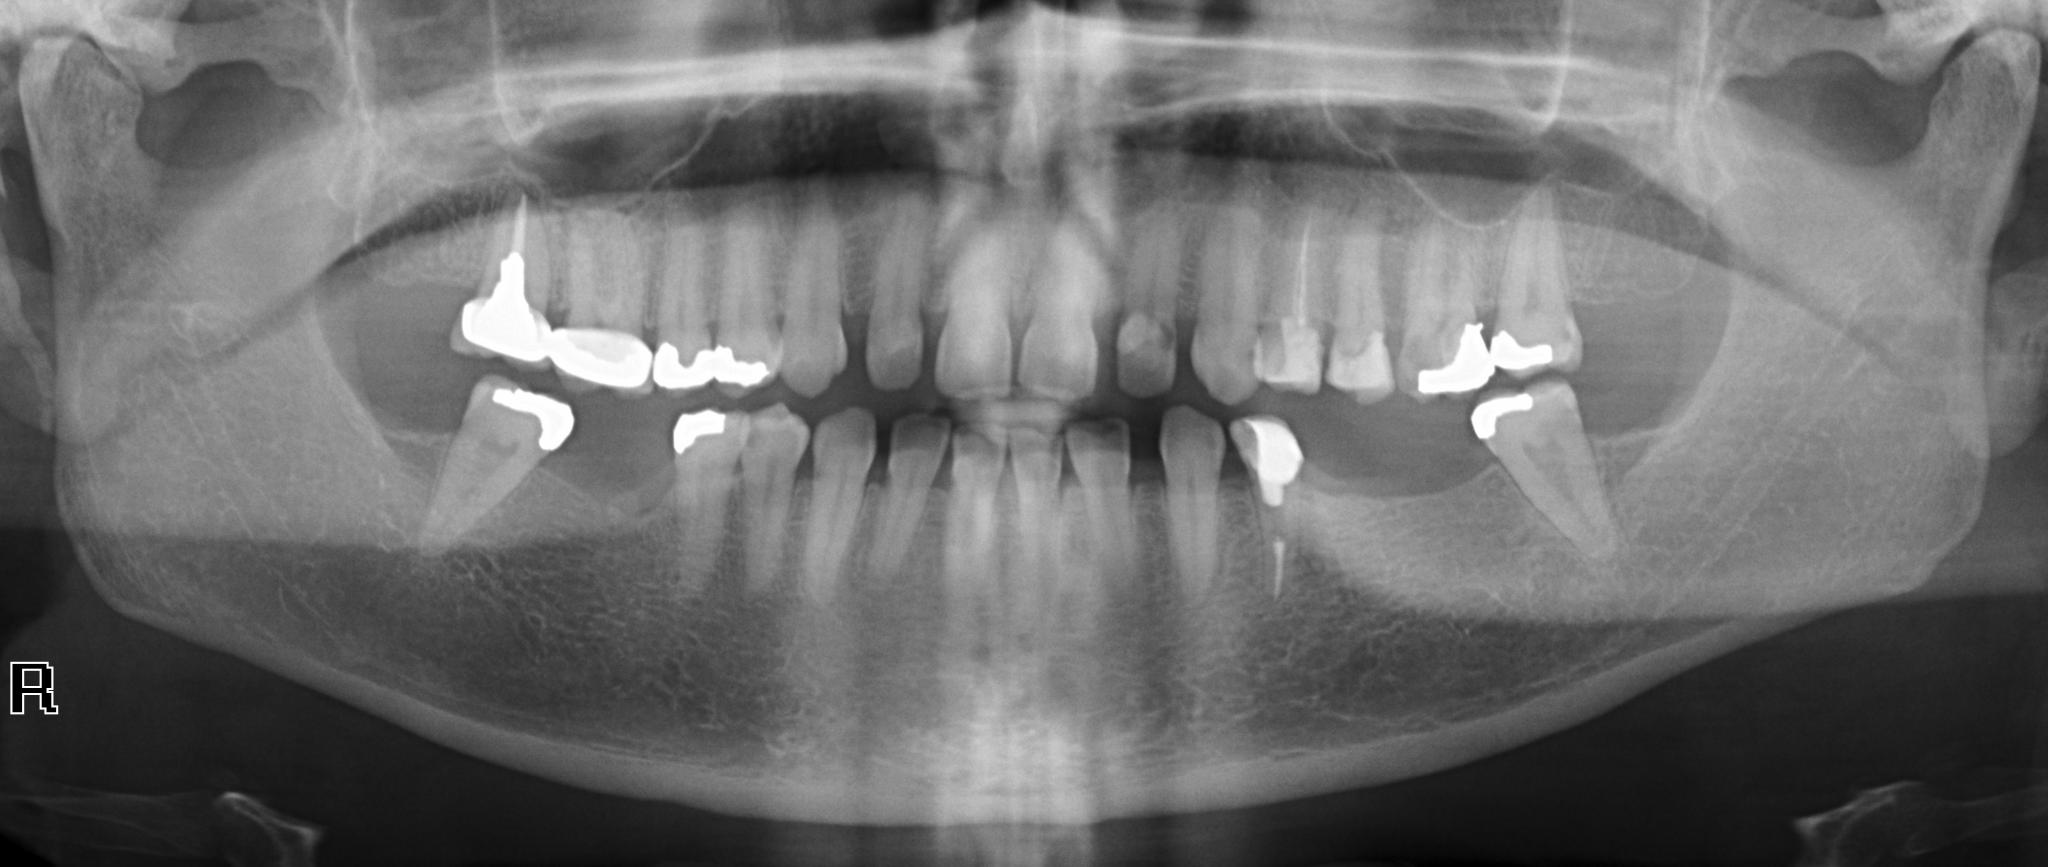caries: (866, 411, 953, 585)
fractura: (426, 377, 577, 550), (1469, 383, 1609, 542), (547, 217, 650, 393), (1395, 218, 1489, 398), (1485, 212, 1584, 376), (665, 403, 747, 594), (712, 221, 780, 390), (650, 225, 716, 392)
otra: (451, 184, 552, 366), (10, 662, 54, 716)
